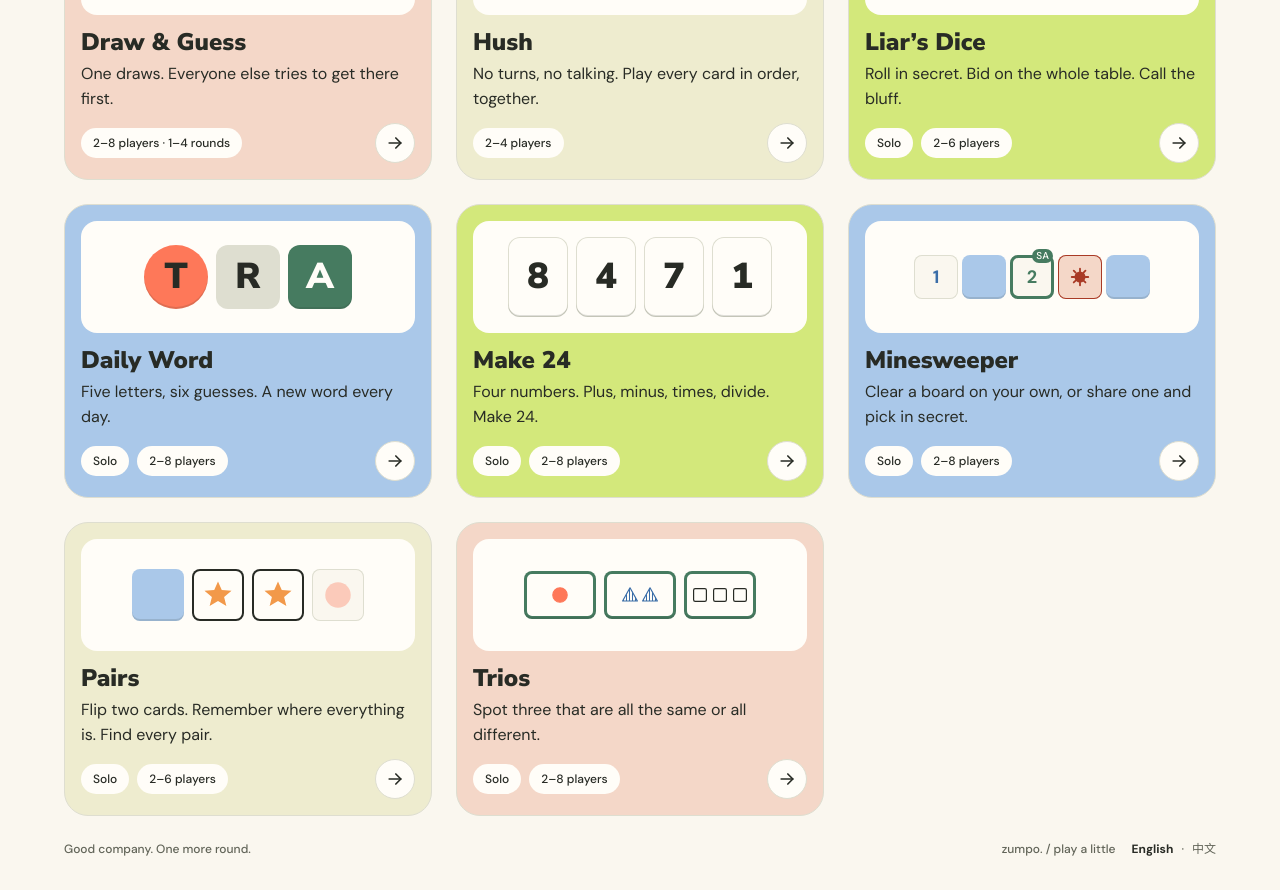
Test: the language switch › turns every page Chinese and remembers it
(page scrolled)
Expected: the radio button labelled "English" is shown, [1132,840,1173,858]
Click the radio button labelled "中文". click: (1199,849)
box: [1181,840,1216,858]
(page scrolled)
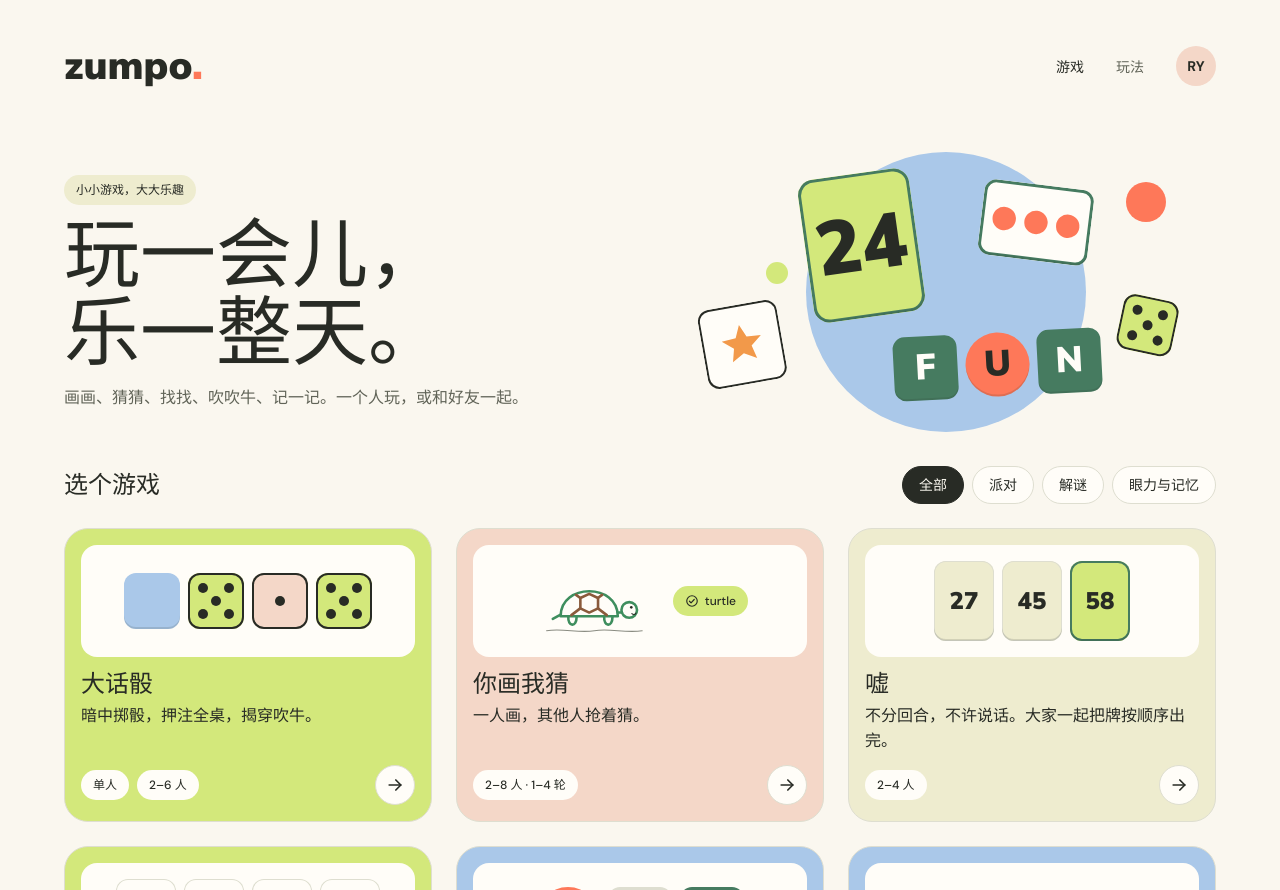
Expected: the heading "玩一会儿， 乐一整天。" is shown, [64,216,444,372]
Expected: the link "玩法" is shown
Expected: the heading "你画我猜" is shown, [473,669,569,699]
The choice outlives the page, and so does the English the test began in.
Click the link "玩法". click: (1130,66)
box: [1116,58,1144,76]
(page scrolled)
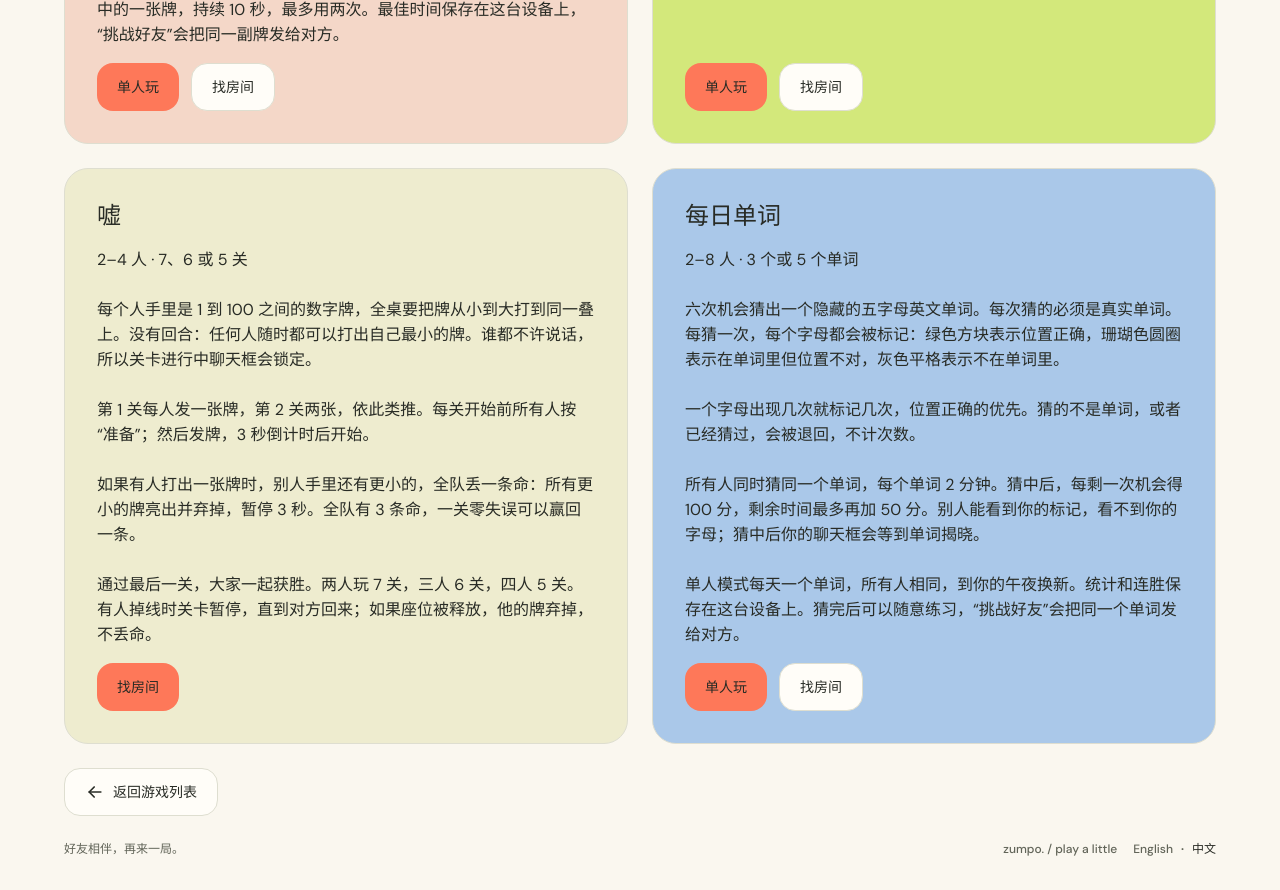
Click the radio button labelled "English". click: (1153,849)
box: [1133,840,1173,858]
(page scrolled)
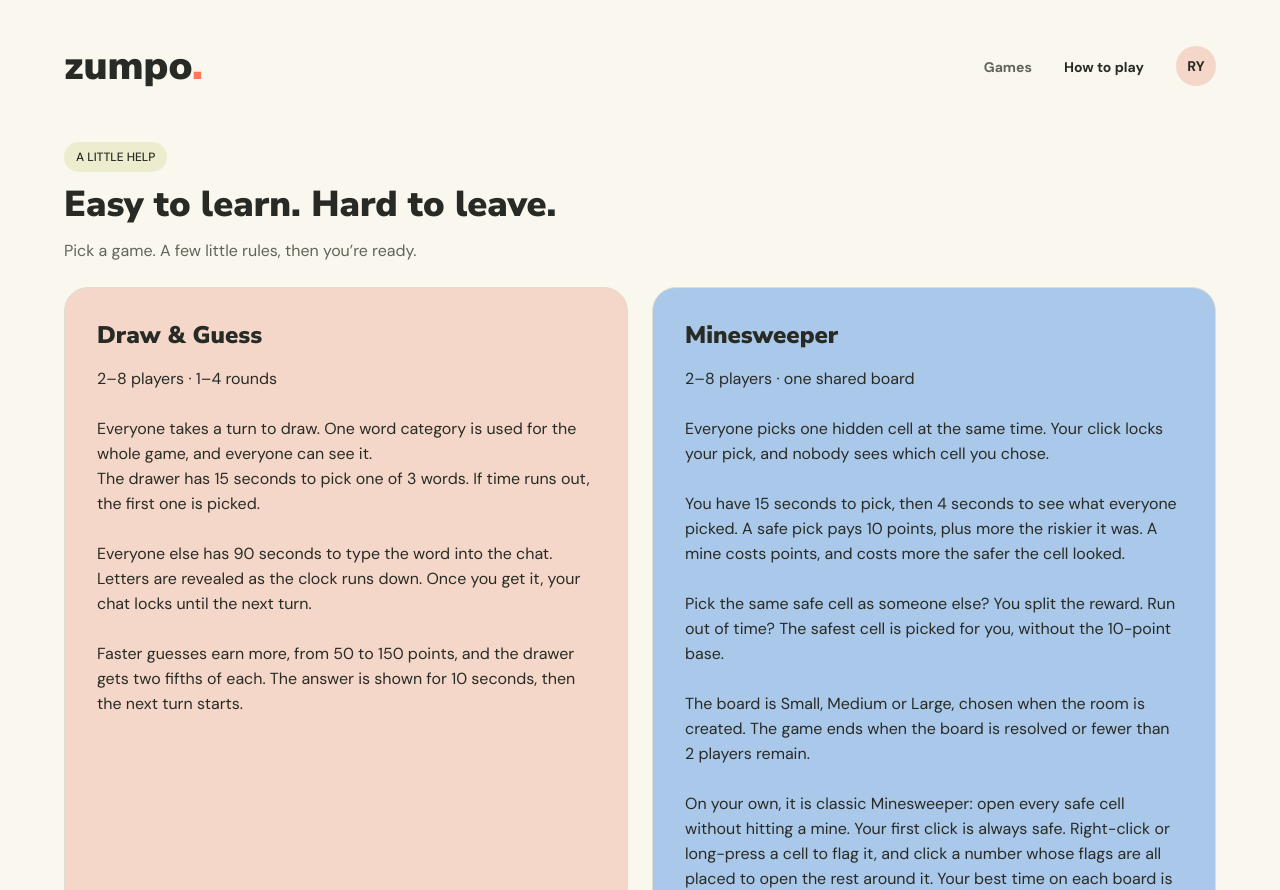
Expected: the heading "Easy to learn. Hard to leave." is shown, [64,184,556,226]
